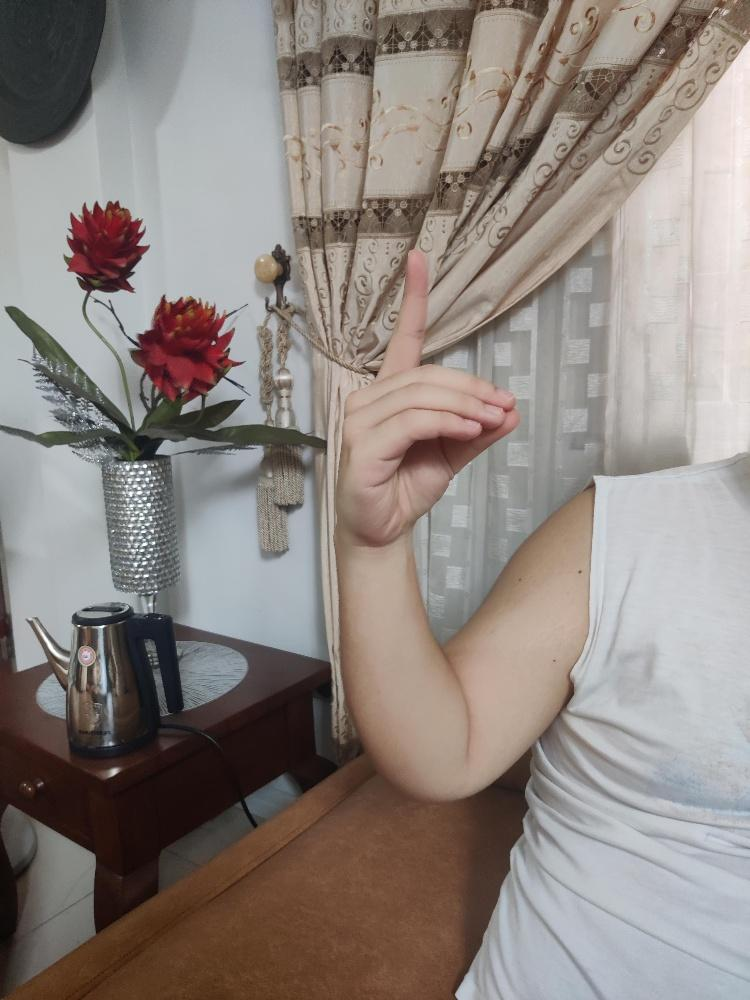d: (330, 246, 521, 549)
